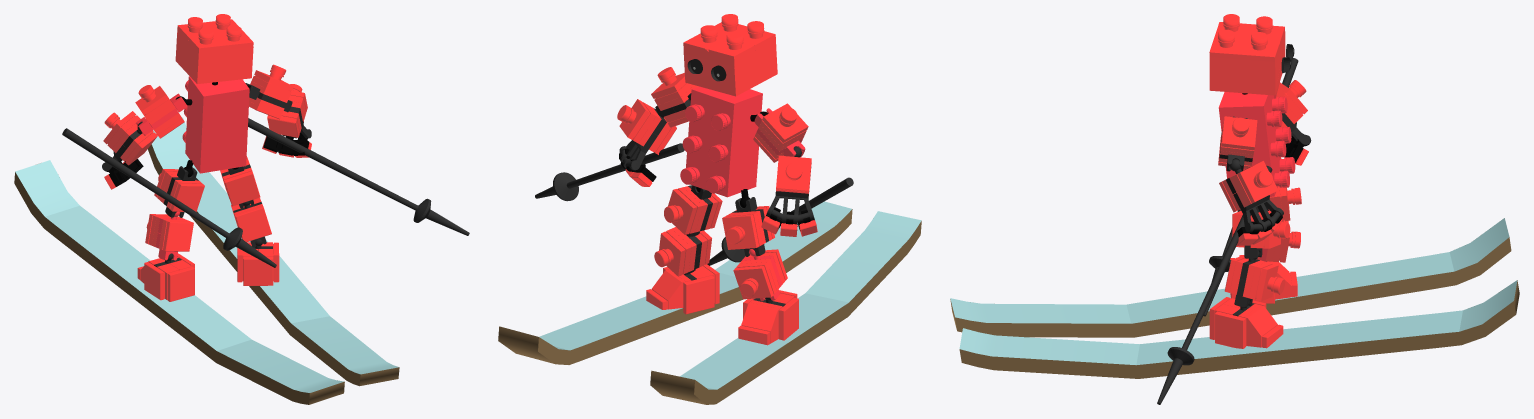
The model's file is brikkoScii-v1.glb.
3 views of the same model, side by side, from view 1: azimuth 30°, elevation 25°; view 2: azimuth 150°, elevation 25°; view 3: azimuth 270°, elevation 25° (orthographic). The views are drawn at different scales.
Visible parts, largest first — view 1: Cube, Cube.002, part.008, part.011, part.002, Circle, Circle.001, part.108, part.099, part.132, part.018, part.027 (+5 smaller); view 2: Cube, Cube.002, part.008, part.011, part.032, part.002, part.123, part.108, part.057, part.099, part.018, part.048 (+6 smaller); view 3: Cube.002, Cube, part.011, part.008, part.032, part.123, part.048, Circle.001, part.132, part.099, part.007, part.057 (+4 smaller).
Part boxes in pixels (left/top/right/bottom): Cube: left=14, top=160, right=344, bottom=404; Cube.002: left=148, top=117, right=399, bottom=386; part.008: left=182, top=76, right=249, bottom=173; part.011: left=175, top=19, right=253, bottom=84; part.002: left=137, top=253, right=194, bottom=301; Circle: left=62, top=128, right=276, bottom=267; Circle.001: left=248, top=118, right=469, bottom=235; part.108: left=135, top=85, right=187, bottom=138; part.099: left=102, top=111, right=157, bottom=171; part.132: left=245, top=64, right=293, bottom=119; part.018: left=145, top=211, right=193, bottom=260; part.027: left=154, top=166, right=204, bottom=217; Cube: left=650, top=211, right=921, bottom=404; Cube.002: left=498, top=201, right=852, bottom=364; part.008: left=680, top=86, right=762, bottom=197; part.011: left=683, top=22, right=777, bottom=96; part.032: left=646, top=264, right=719, bottom=314; part.002: left=738, top=290, right=798, bottom=345; part.123: left=617, top=99, right=676, bottom=170; part.108: left=753, top=103, right=808, bottom=162; part.057: left=664, top=185, right=722, bottom=236; part.099: left=766, top=146, right=814, bottom=223; part.018: left=733, top=249, right=787, bottom=301; part.048: left=654, top=227, right=711, bottom=276; Cube.002: left=959, top=280, right=1519, bottom=378; Cube: left=950, top=218, right=1511, bottom=337; part.011: left=1209, top=22, right=1285, bottom=95; part.008: left=1218, top=92, right=1295, bottom=196; part.032: left=1209, top=297, right=1283, bottom=348; part.123: left=1219, top=159, right=1283, bottom=232; part.048: left=1224, top=251, right=1285, bottom=307; Circle.001: left=1157, top=165, right=1272, bottom=404; part.132: left=1218, top=116, right=1257, bottom=171; part.099: left=1275, top=80, right=1310, bottom=144; part.007: left=1218, top=14, right=1272, bottom=50; part.057: left=1232, top=207, right=1290, bottom=258.
Size of the model in its own units: 2.21 by 1.76 by 2.83.
